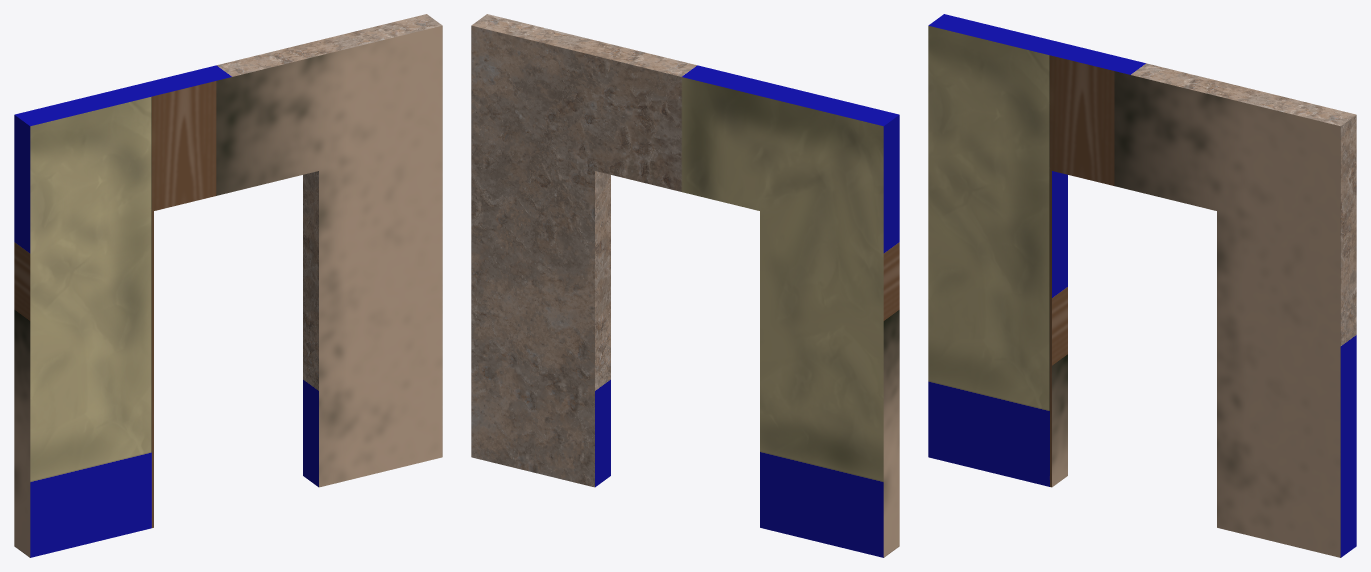
File: doorWall.fbx
3 renders of one model, left to right at view 1: azimuth 30°, elevation 25°; view 2: azimuth 150°, elevation 25°; view 3: azimuth 330°, elevation 25°, orthographic.
Visible parts, largest first — view 1: doorwall; view 2: doorwall; view 3: doorwall.
Part boxes in pixels (left/top/right/bottom): doorwall: left=14, top=14, right=442, bottom=557; doorwall: left=471, top=14, right=899, bottom=557; doorwall: left=928, top=14, right=1356, bottom=557.
Bounding box in the file's own units: 300 × 300 × 20.
